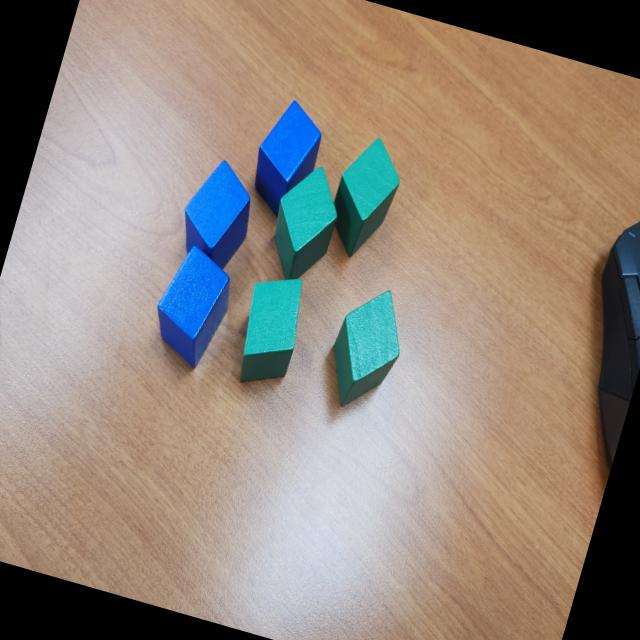blue: (143, 240, 242, 374), (242, 94, 331, 224), (172, 154, 264, 272)
green: (318, 279, 417, 419), (318, 128, 411, 266), (258, 158, 349, 290), (226, 266, 313, 394)
